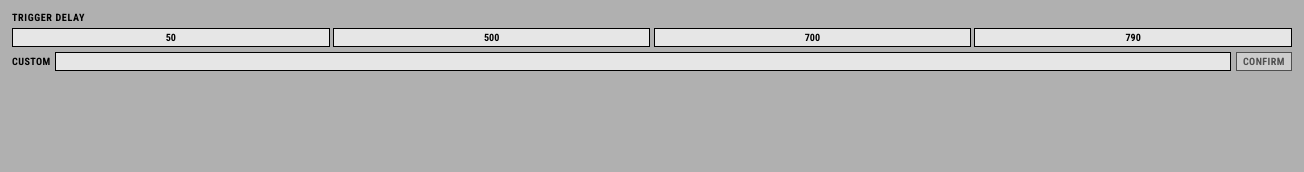
Scenario: PresetNumberInput › enables Confirm once a valid custom value is typed
The width and height of the screenshot is (1304, 172).
expect the button "Confirm" is disabled: met, box [1236, 52, 1292, 71]
Type "650" into the number field labelled "Custom" at (643, 61), box [55, 52, 1231, 71]
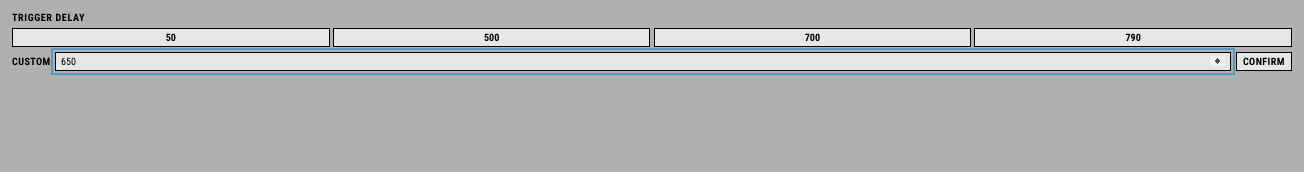
expect the button "Confirm" is enabled: met, box [1236, 52, 1292, 71]
